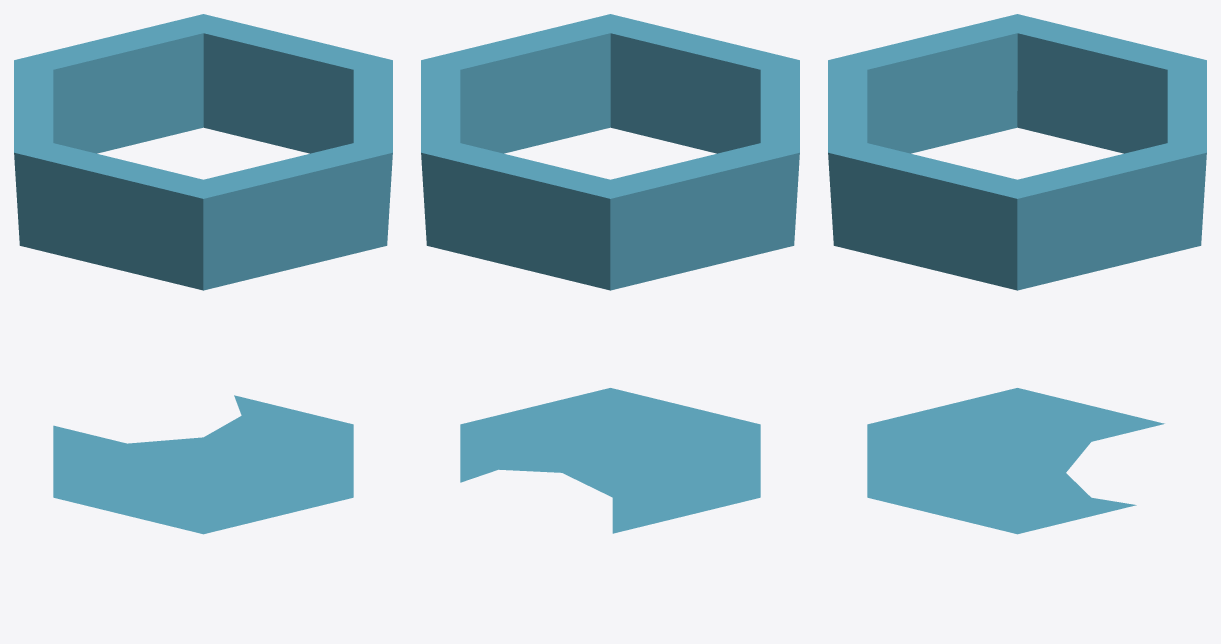
File: cool_cup.fbx
The picture shows the model from 3 angles, left to right: view 1: azimuth 30°, elevation 25°; view 2: azimuth 150°, elevation 25°; view 3: azimuth 270°, elevation 25°; orthographic projection.
Parts seen in each view (by area): view 1: Cup; view 2: Cup; view 3: Cup.
Boxes of the visible parts, x1,y1,x2,y2 form: Cup: (14,14,392,534); Cup: (421,14,799,533); Cup: (828,14,1206,534).
Bounding box in the file's own units: 0.346 × 0.3877 × 0.2996.
